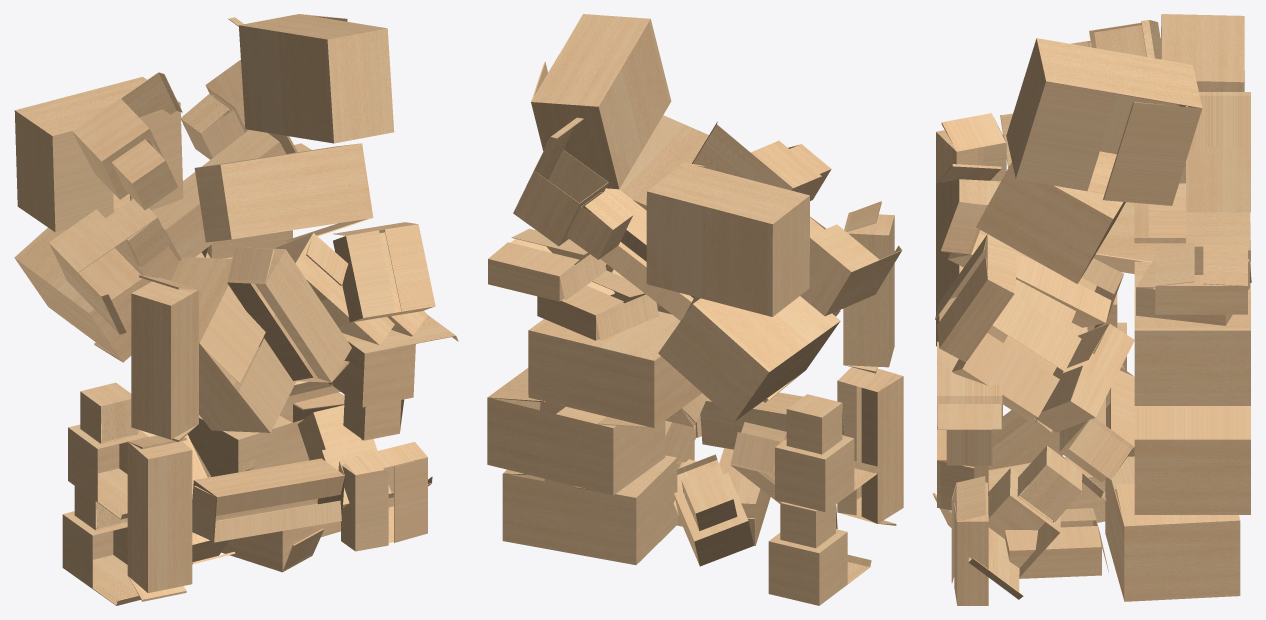
File: TBOX.fbx
3 views of the same model, side by side, from view 1: azimuth 30°, elevation 25°; view 2: azimuth 150°, elevation 25°; view 3: azimuth 270°, elevation 25° (orthographic). The views are drawn at different scales.
Parts seen in each view (by area): view 1: Cube.047; view 2: Cube.047; view 3: Cube.047.
Part boxes in pixels (bbox=[...]): Cube.047: bbox=[14, 14, 458, 605]; Cube.047: bbox=[487, 14, 903, 605]; Cube.047: bbox=[932, 14, 1251, 605].
Size of the model in its own units: 512 by 760 by 392.
